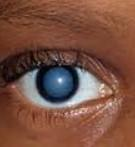eye: (35, 64, 81, 103)
